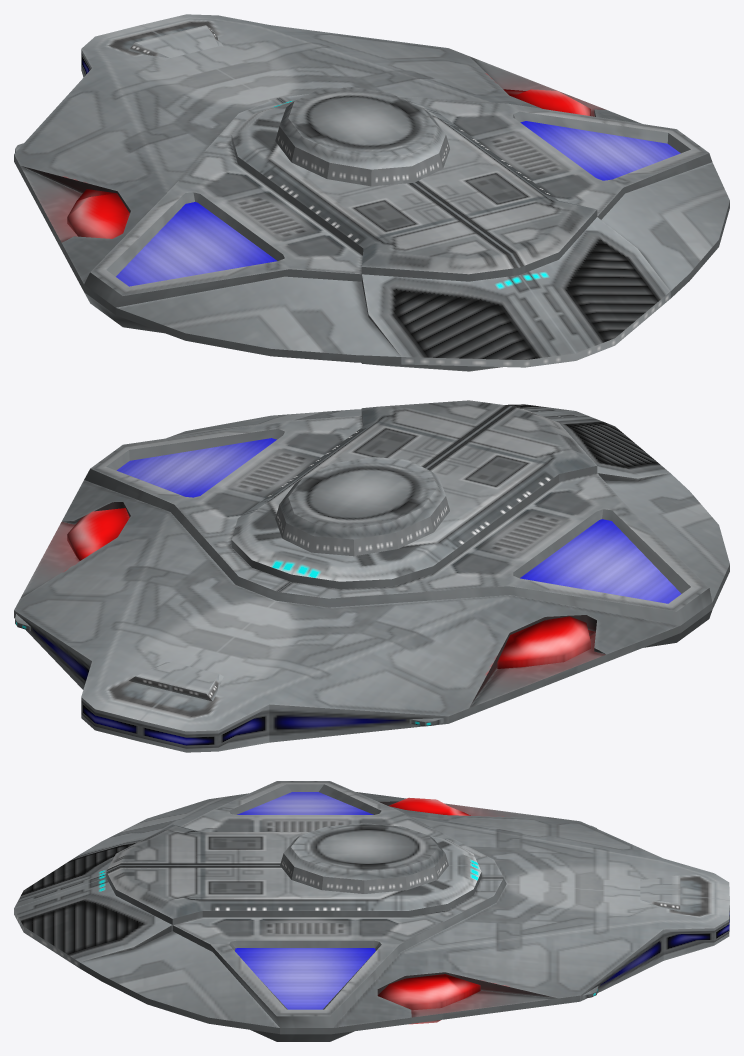
Rendered from USS Incursion.FBX.
3 renders of one model, top to bottom at view 1: azimuth 30°, elevation 25°; view 2: azimuth 150°, elevation 25°; view 3: azimuth 270°, elevation 25°, orthographic. The views are drawn at different scales.
Parts seen in each view (by area): view 1: incurs; view 2: incurs; view 3: incurs.
Boxes of the visible parts, x1,y1,x2,y2 form: incurs: (14,14,729,371); incurs: (14,400,729,752); incurs: (14,781,729,1041).
Bounding box in the file's own units: 18.84 × 4.05 × 23.83.
Materials: 1 (1 with a texture image).
